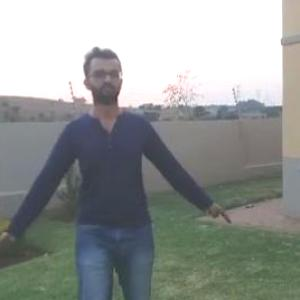land: (6, 56, 209, 299)
